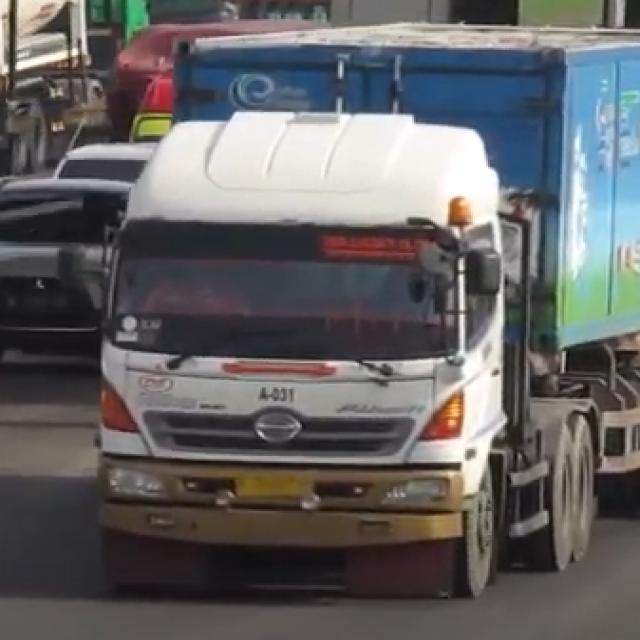Truck: (90, 31, 640, 594)
